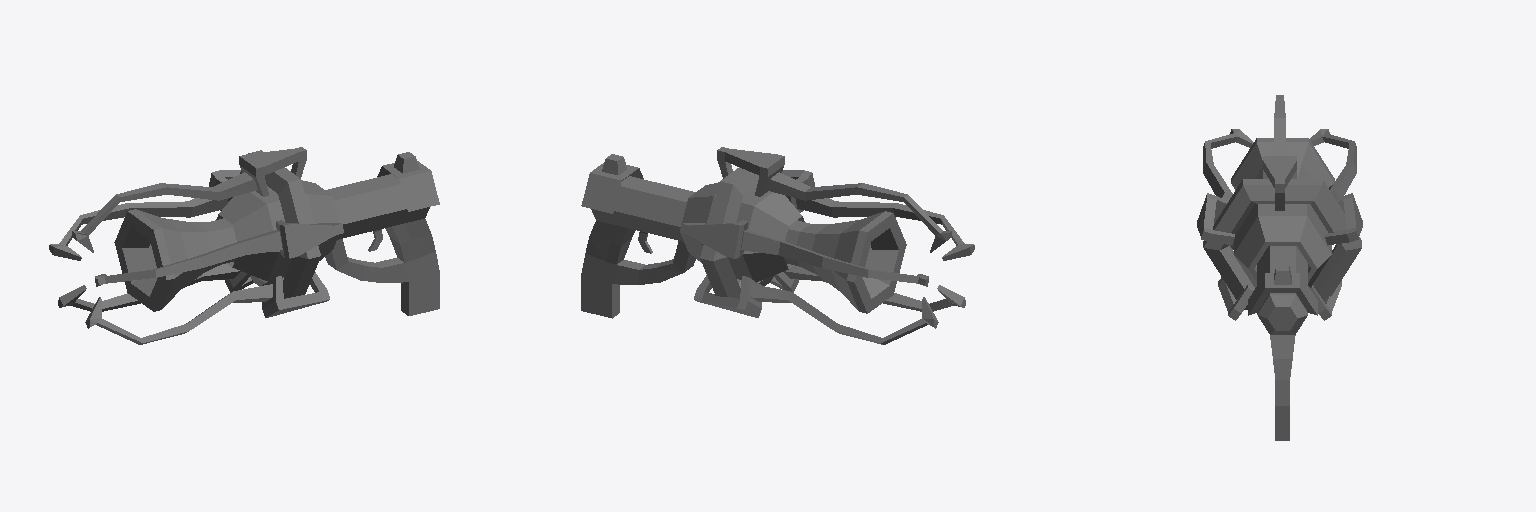
The model's file is Gun.obj.
3 renders of one model, left to right at view 1: azimuth 30°, elevation 25°; view 2: azimuth 150°, elevation 25°; view 3: azimuth 270°, elevation 25°, orthographic.
Visible parts, largest first — view 1: polySurface36; view 2: polySurface36; view 3: polySurface36.
Part boxes in pixels (x1,y1,x2,y2): polySurface36: (49,147,439,344); polySurface36: (581,147,974,344); polySurface36: (1197,95,1362,440).
Size of the model in its own units: 121 by 60.92 by 48.06.